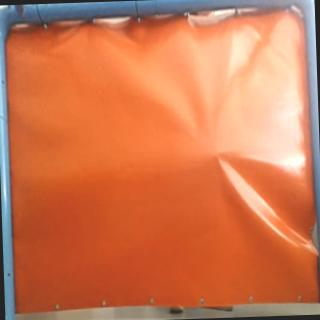Hit-hRxx: (206, 147, 229, 163)
